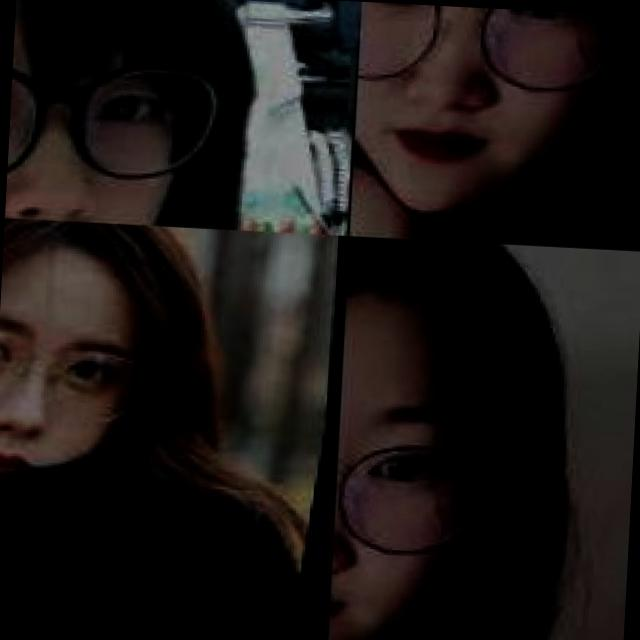glasses: (6, 30, 250, 213), (356, 1, 640, 117), (332, 414, 506, 580), (0, 317, 170, 439)
